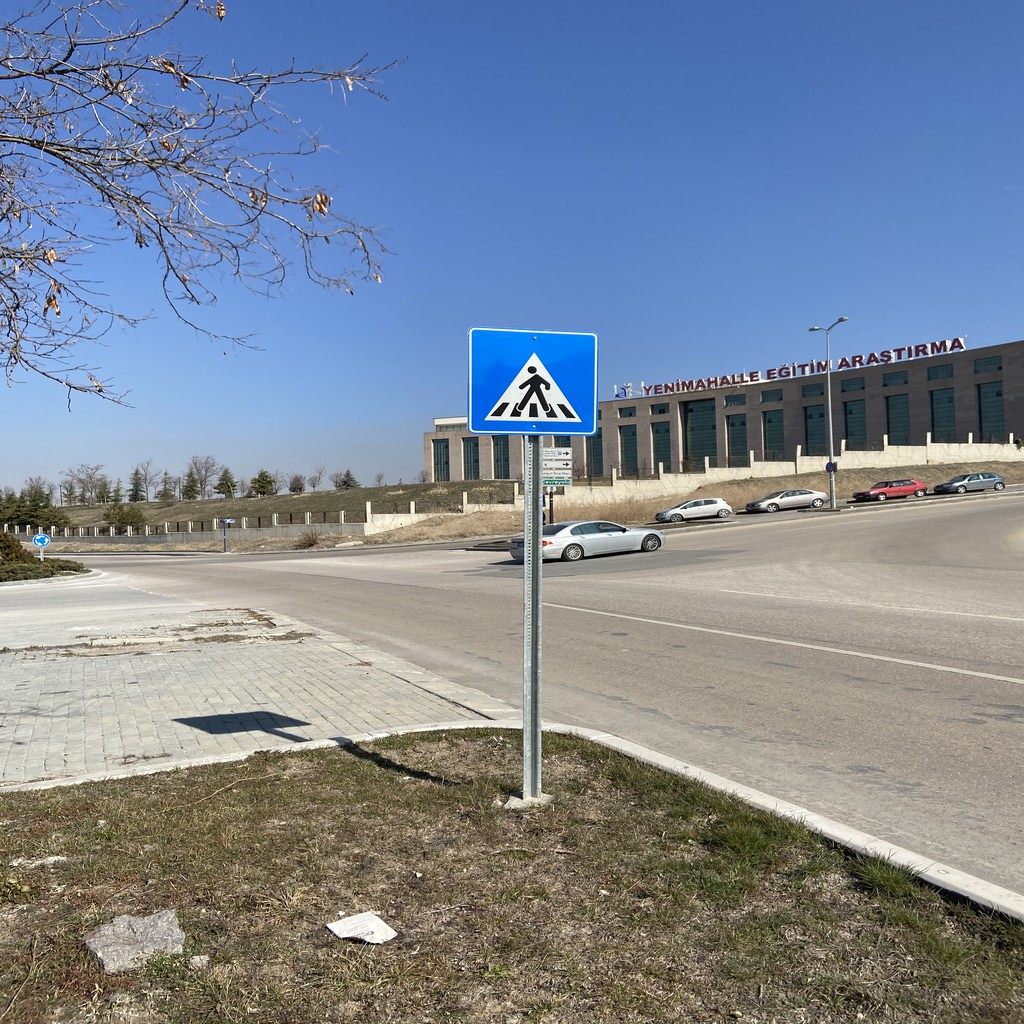Yaya Gecidi: (476, 327, 598, 434)
